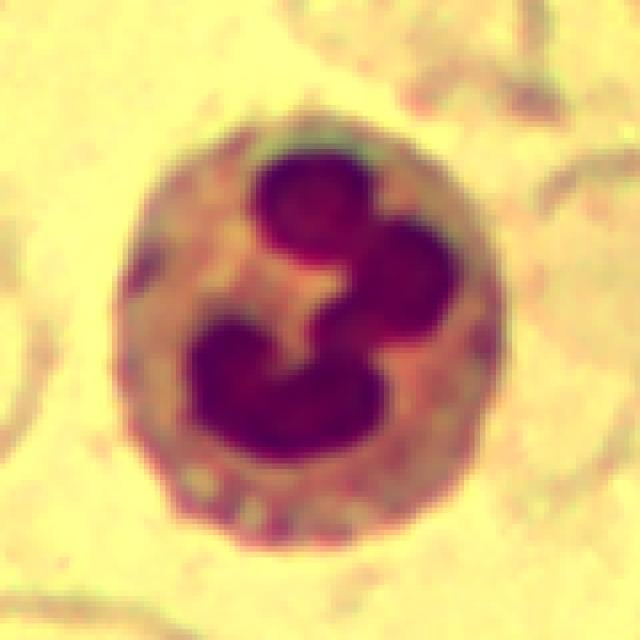WBC: (85, 94, 523, 563)
